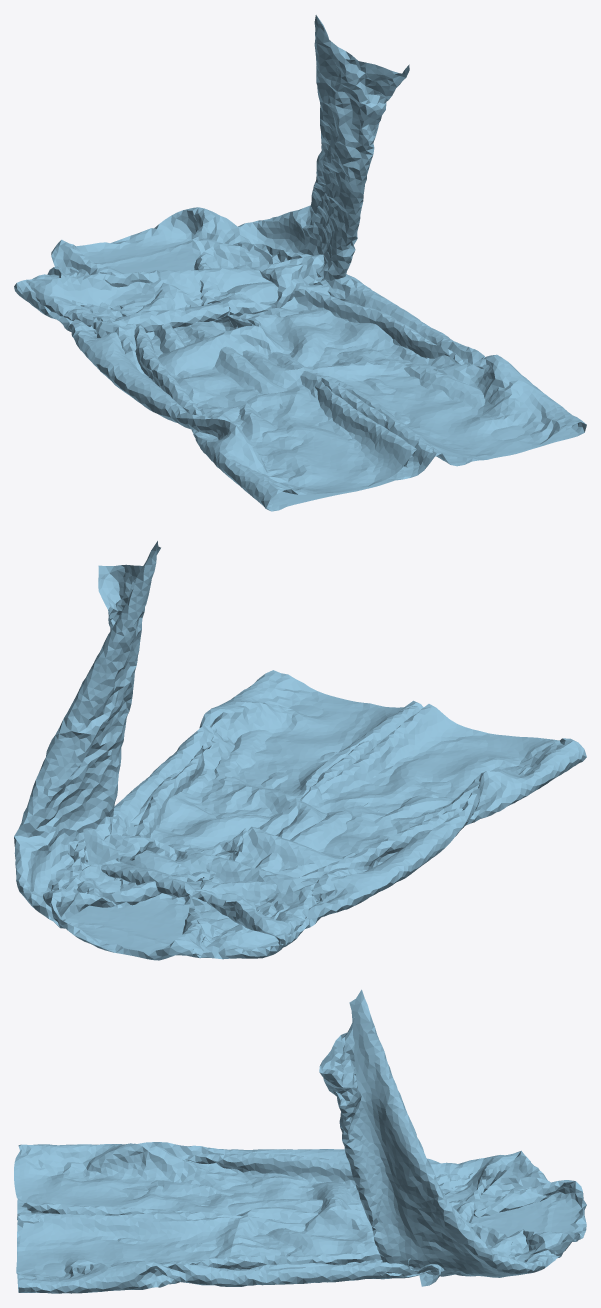
File: frame_11.glb
3 views of the same model, one above another, from view 1: azimuth 30°, elevation 25°; view 2: azimuth 150°, elevation 25°; view 3: azimuth 270°, elevation 25° (orthographic). The views are drawn at different scales.
Visible parts, largest first — view 1: frame_11.obj; view 2: frame_11.obj; view 3: frame_11.obj.
Boxes of the visible parts, box(x1,y1,x2,y2) form: frame_11.obj: box(14, 15, 586, 511); frame_11.obj: box(14, 541, 586, 960); frame_11.obj: box(14, 989, 586, 1293).
Size of the model in its own units: 0.9608 by 0.8693 by 1.65.
